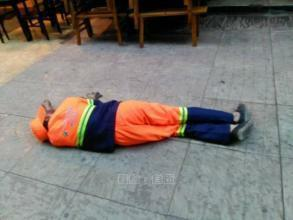Fall-Detected: (28, 83, 254, 155)
